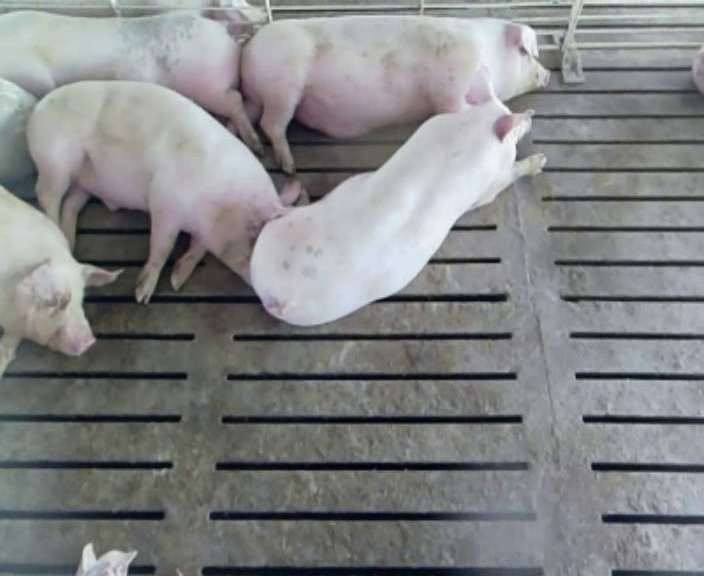pig: (250, 65, 544, 325), (27, 81, 293, 301)
